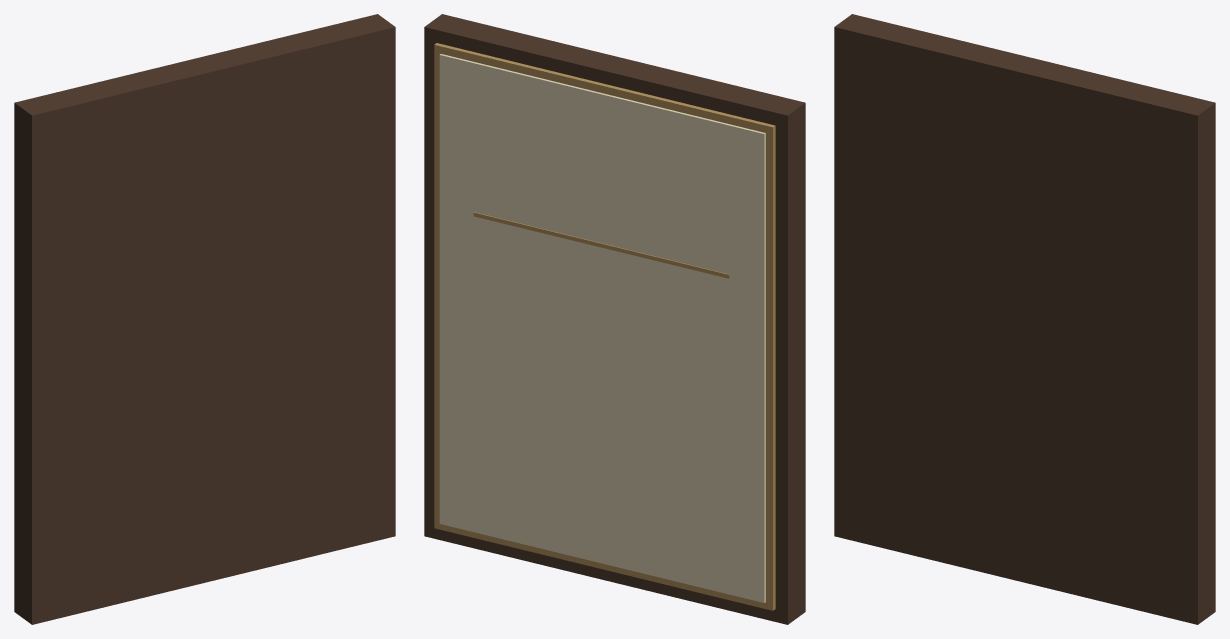
The model's file is LP_Directory.fbx.
3 views of the same model, side by side, from view 1: azimuth 30°, elevation 25°; view 2: azimuth 150°, elevation 25°; view 3: azimuth 330°, elevation 25° (orthographic).
Visible parts, largest first — view 1: Walnut; view 2: WarmIvory, Walnut, AgedBrass; view 3: Walnut.
Boxes of the visible parts, box(x1,y1,x2,y2) form: Walnut: box(14, 14, 395, 624); WarmIvory: box(439, 54, 765, 602); Walnut: box(424, 14, 805, 624); AgedBrass: box(434, 43, 775, 610); Walnut: box(834, 14, 1215, 624).
Bounding box in the file's own units: 118 × 158 × 12.65.
